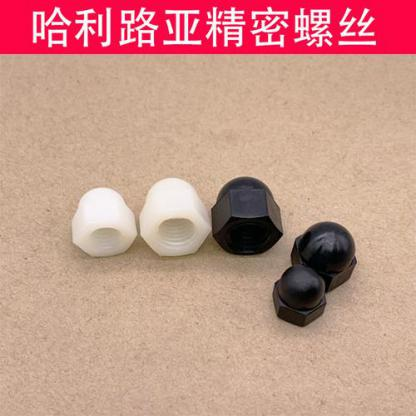FOD: (213, 174, 285, 256), (141, 176, 211, 258), (288, 220, 364, 288), (70, 187, 138, 259), (270, 266, 327, 326)
